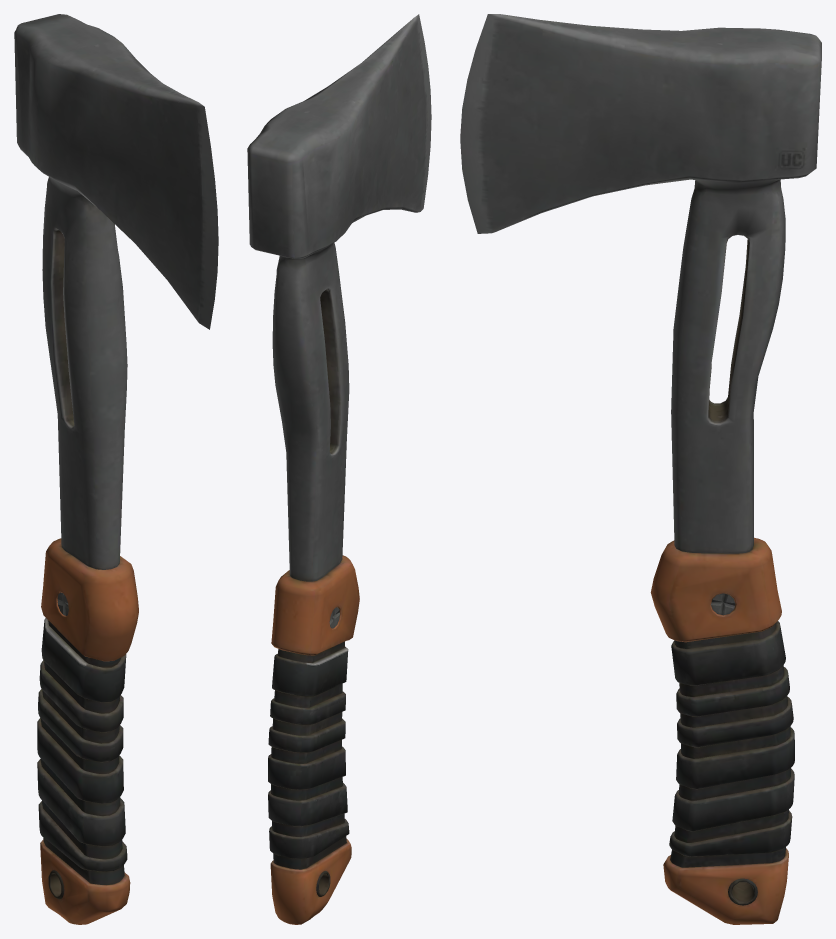
Rendered from hatchet.glb.
3 renders of one model, left to right at view 1: azimuth 30°, elevation 25°; view 2: azimuth 150°, elevation 25°; view 3: azimuth 270°, elevation 25°, orthographic. The views are drawn at different scales.
Visible parts, largest first — view 1: hatchet; view 2: hatchet; view 3: hatchet.
Boxes of the visible parts, x1,y1,x2,y2 form: hatchet: [14, 14, 218, 924]; hatchet: [247, 14, 431, 924]; hatchet: [460, 14, 821, 924].
Size of the model in its own units: 0.0259 by 0.2887 by 0.1043.
1 material, 1 textured.
